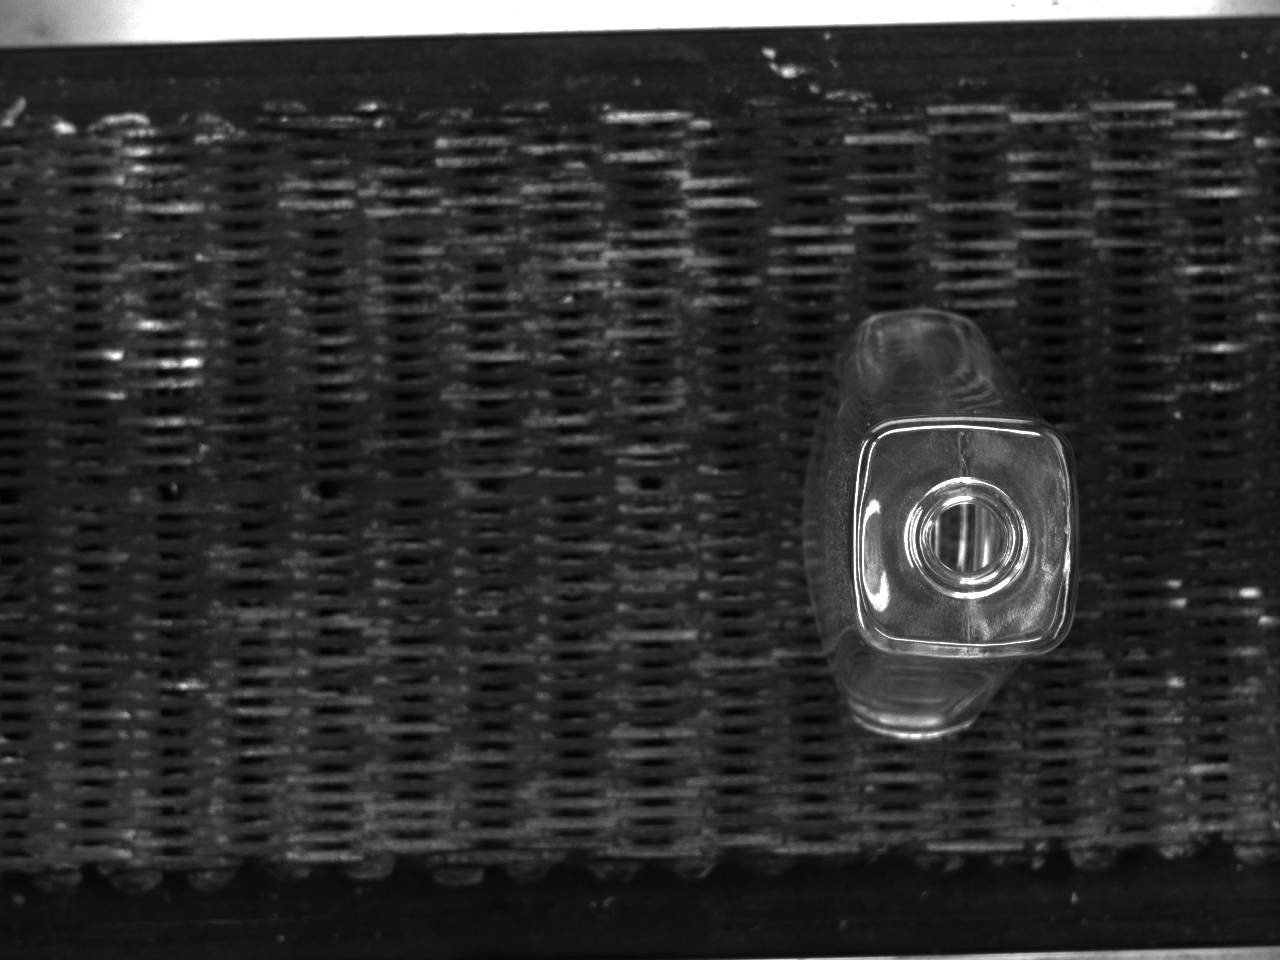bottleneck: (910, 476, 1030, 600)
